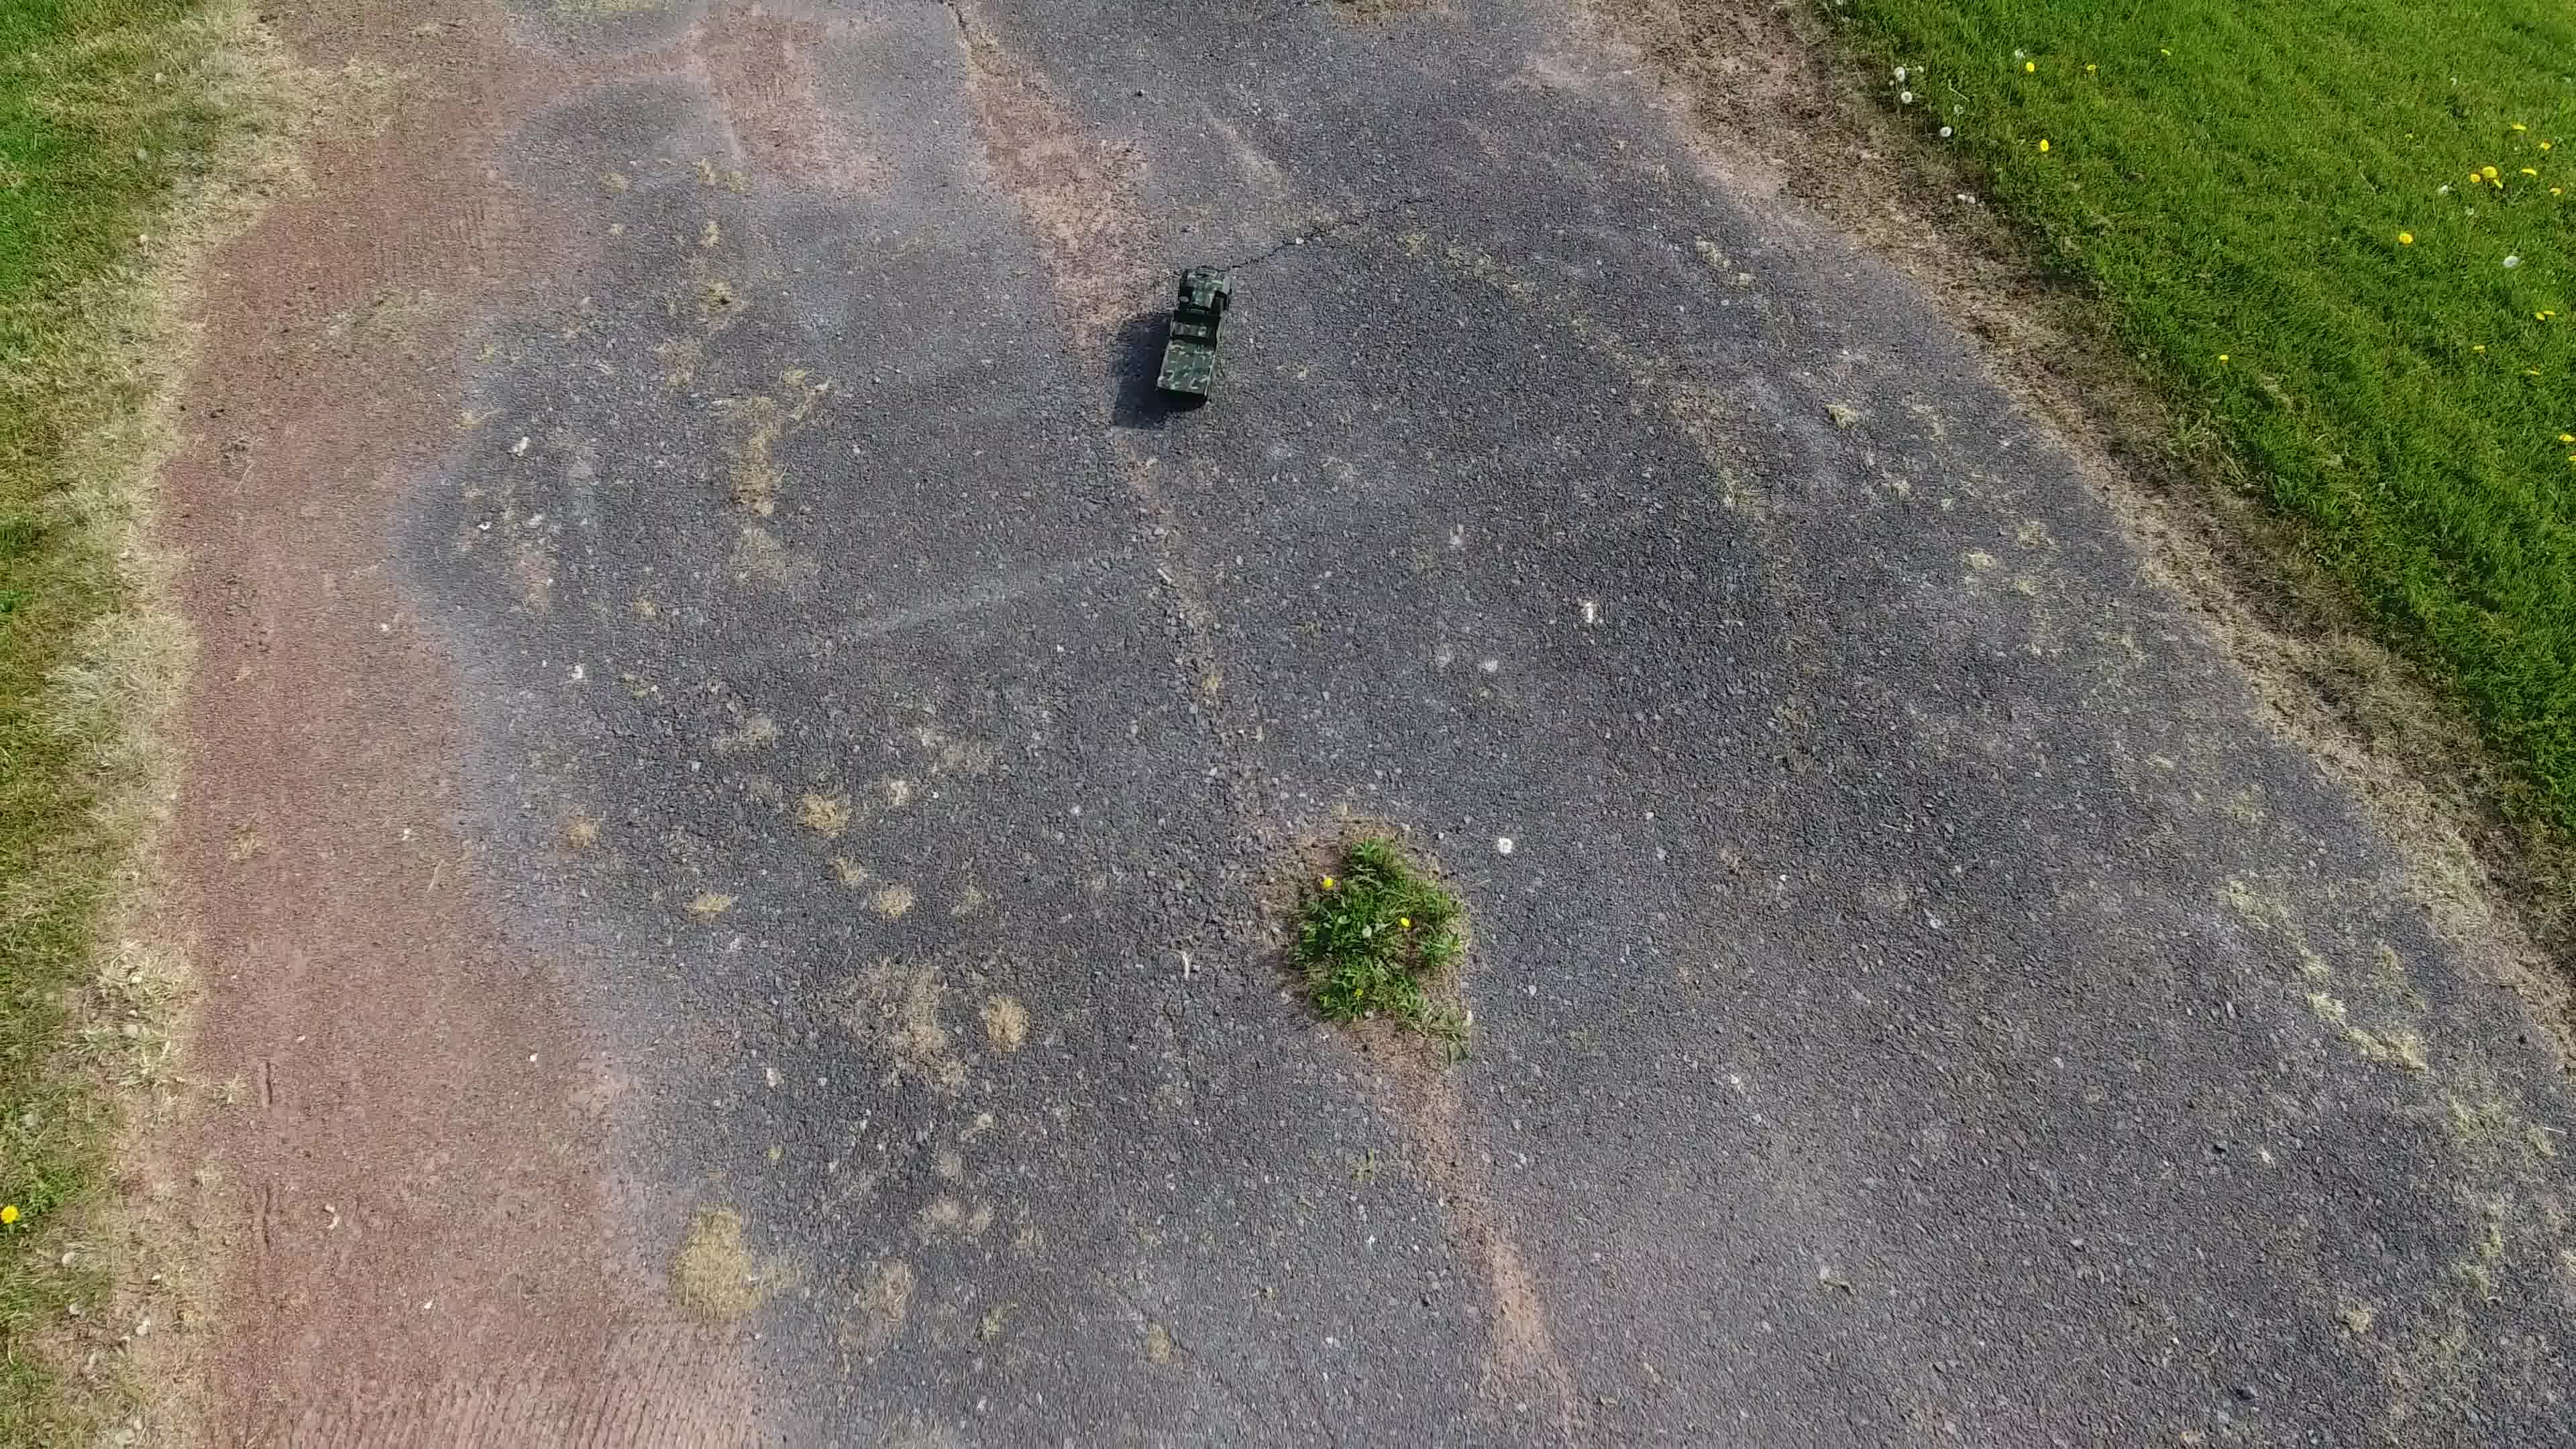transporter9: (1150, 264, 1238, 405)
